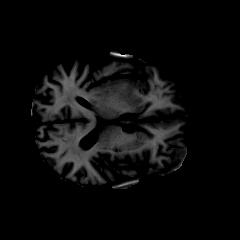glioma: (111, 65, 143, 95)
